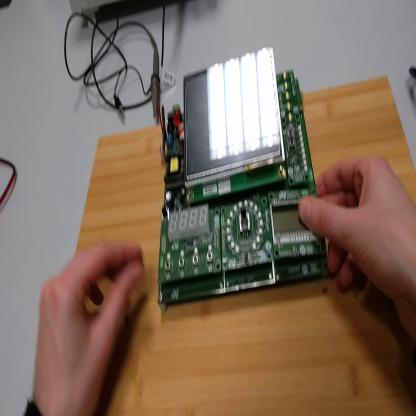hand: (303, 153, 416, 338), (34, 239, 146, 416)
low voltage board: (157, 50, 323, 310)
oscilloscope: (71, 1, 115, 31)
oscilloscope probe tip: (149, 38, 162, 123)
working area: (73, 72, 416, 416)
